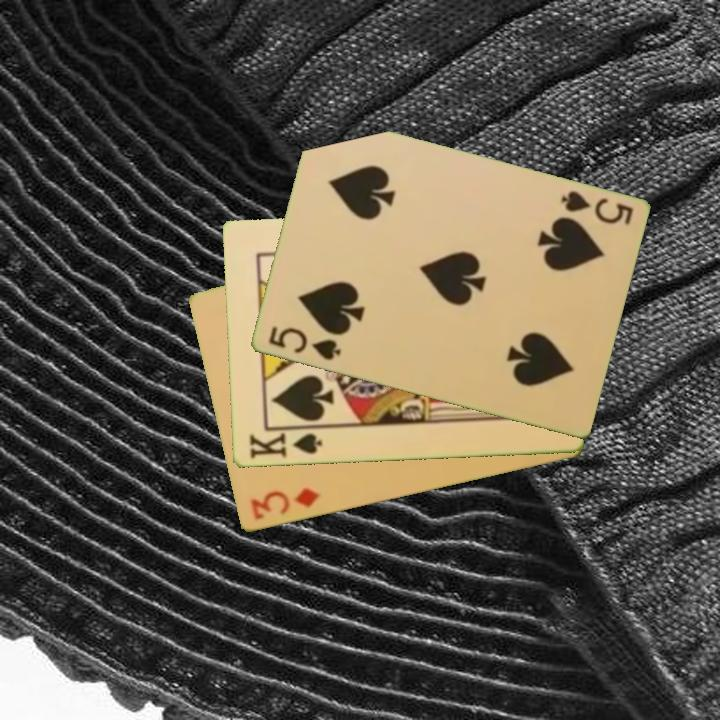3d: (247, 484, 322, 524)
5s: (264, 323, 344, 364), (557, 187, 636, 228)
Ks: (245, 428, 325, 462)
